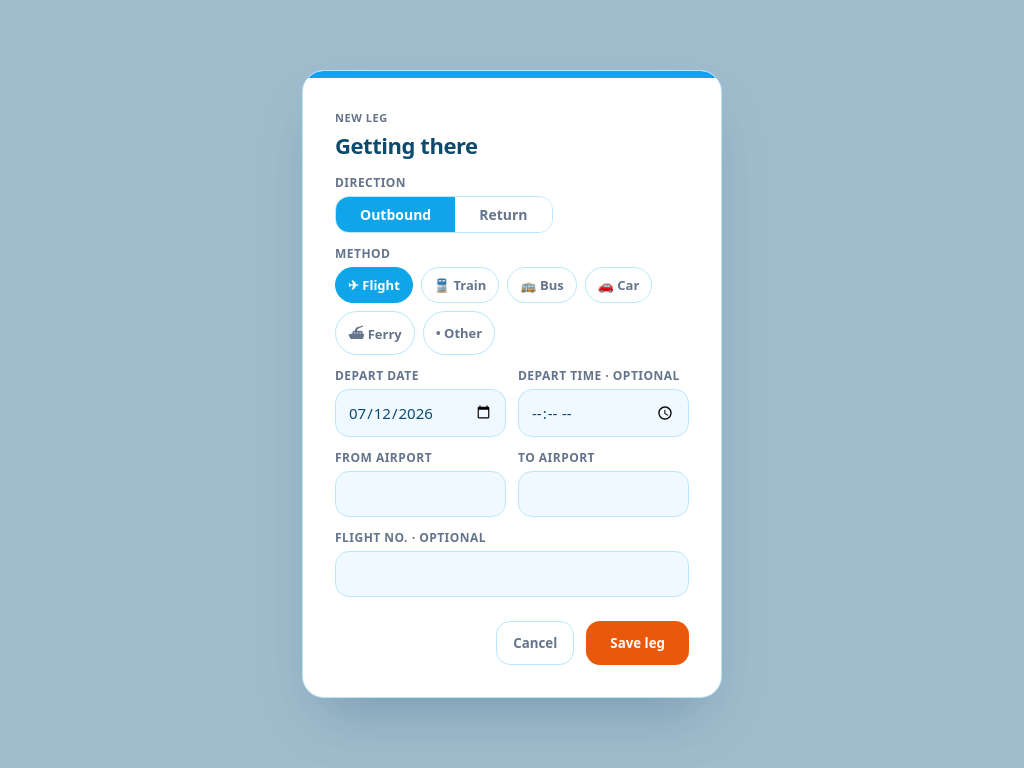
Test case: TransportEditorModal › blocks save when from/to are empty
What coordinates should you click on to do the following:
click the button "Save leg"
I would click on:
 (638, 643)
Its box is [586,621,689,665].
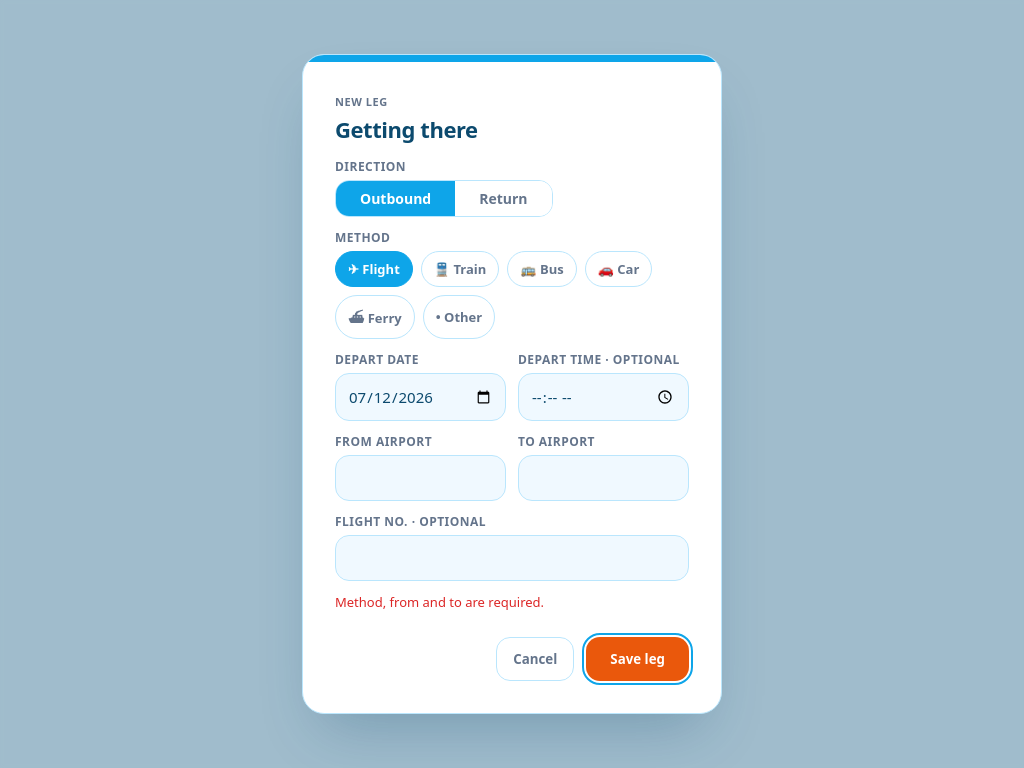
expect the text "Method, from and to are required." is shown: met, box [335,593,544,611]
